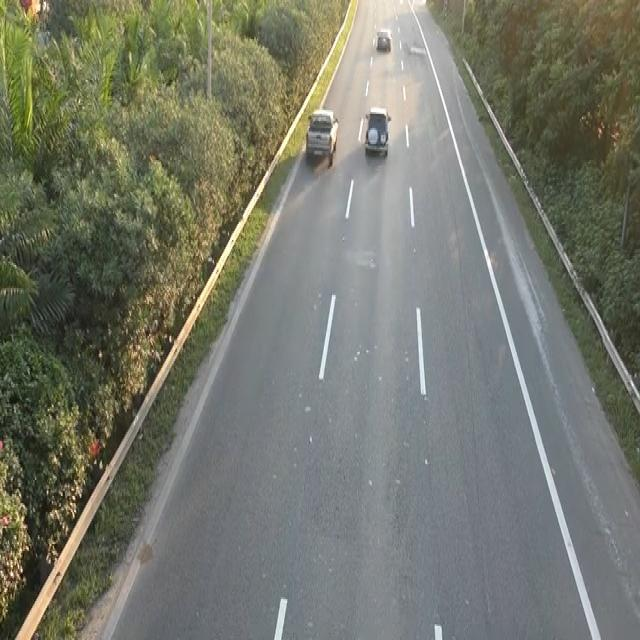bus: (374, 26, 392, 52)
car: (304, 105, 339, 165), (362, 103, 392, 158)
